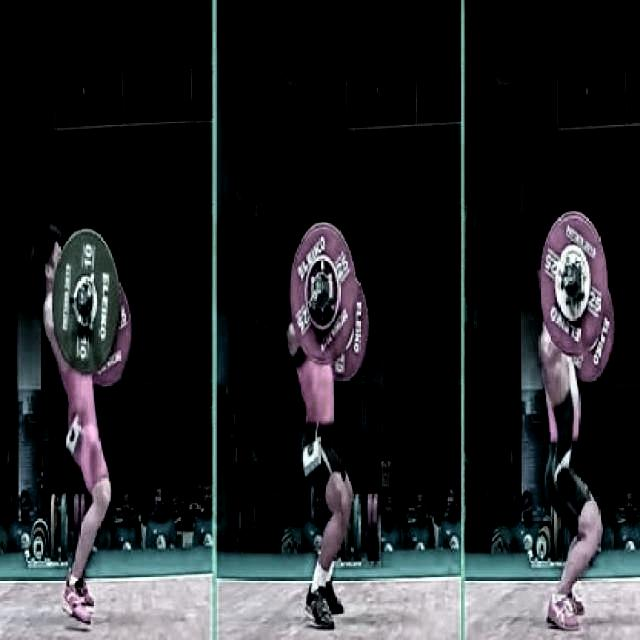barbell: (534, 203, 610, 365), (50, 225, 120, 377), (287, 220, 359, 367)
